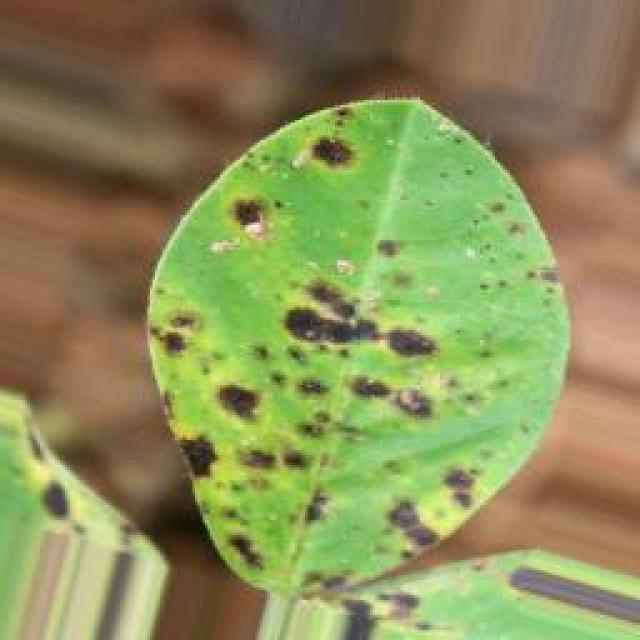Yellowish: (120, 72, 596, 639)
